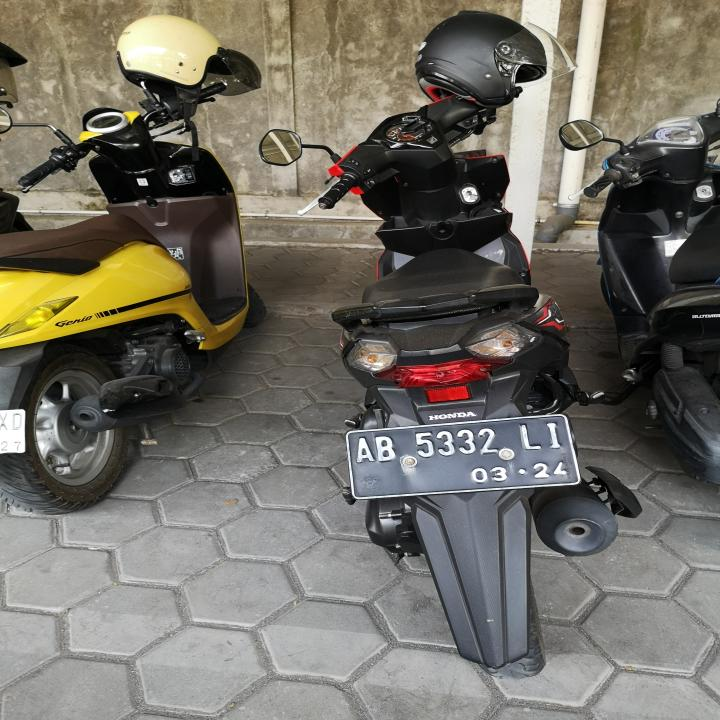plate: (343, 411, 582, 504)
